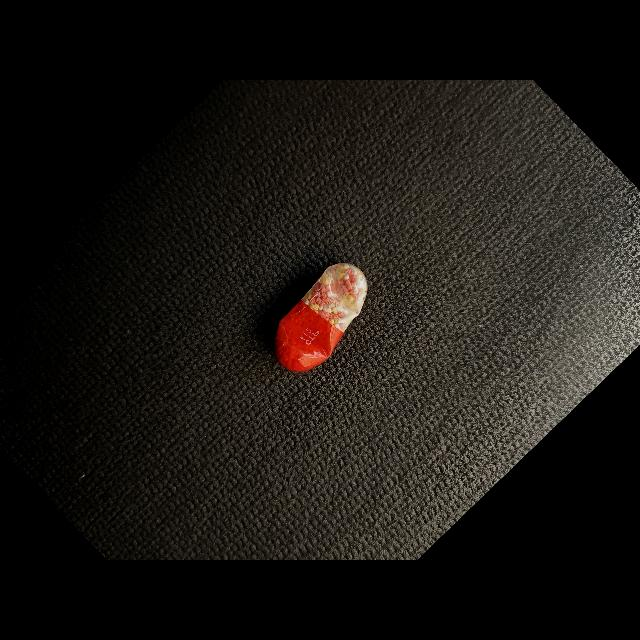Defective Capsule: (275, 263, 368, 372)
